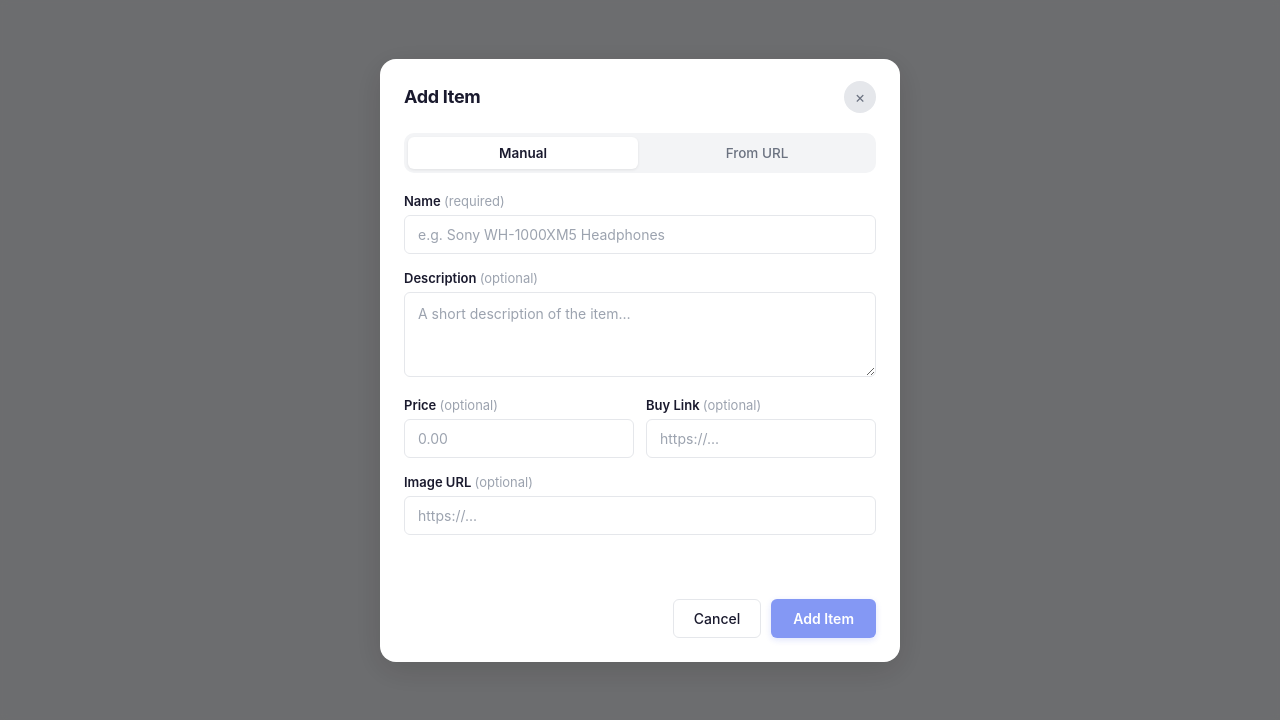
Test: AddItemModal – manual form submission › shows server error on failure
Step 1. Type "Widget" into the field labelled "Name (required)" → (640, 234), box [404,214,876,254]
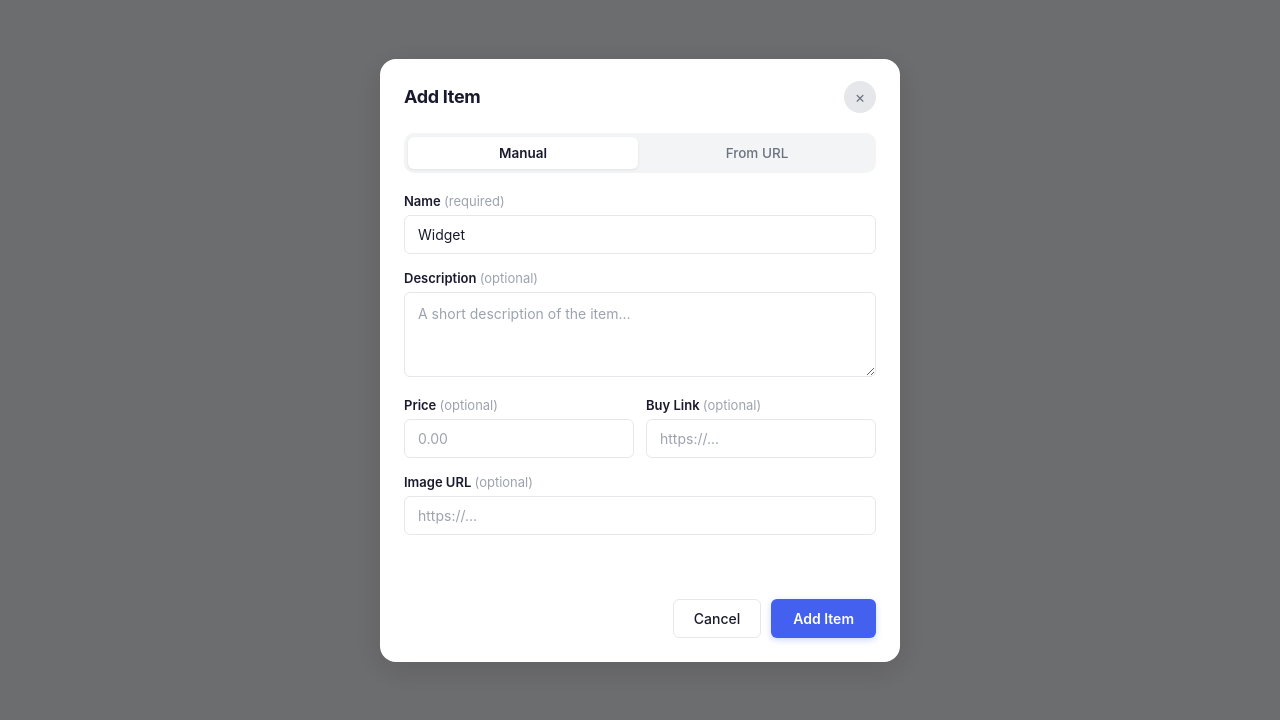
Step 2. Submit the form with id "add-item-form", box [404,192,876,534]
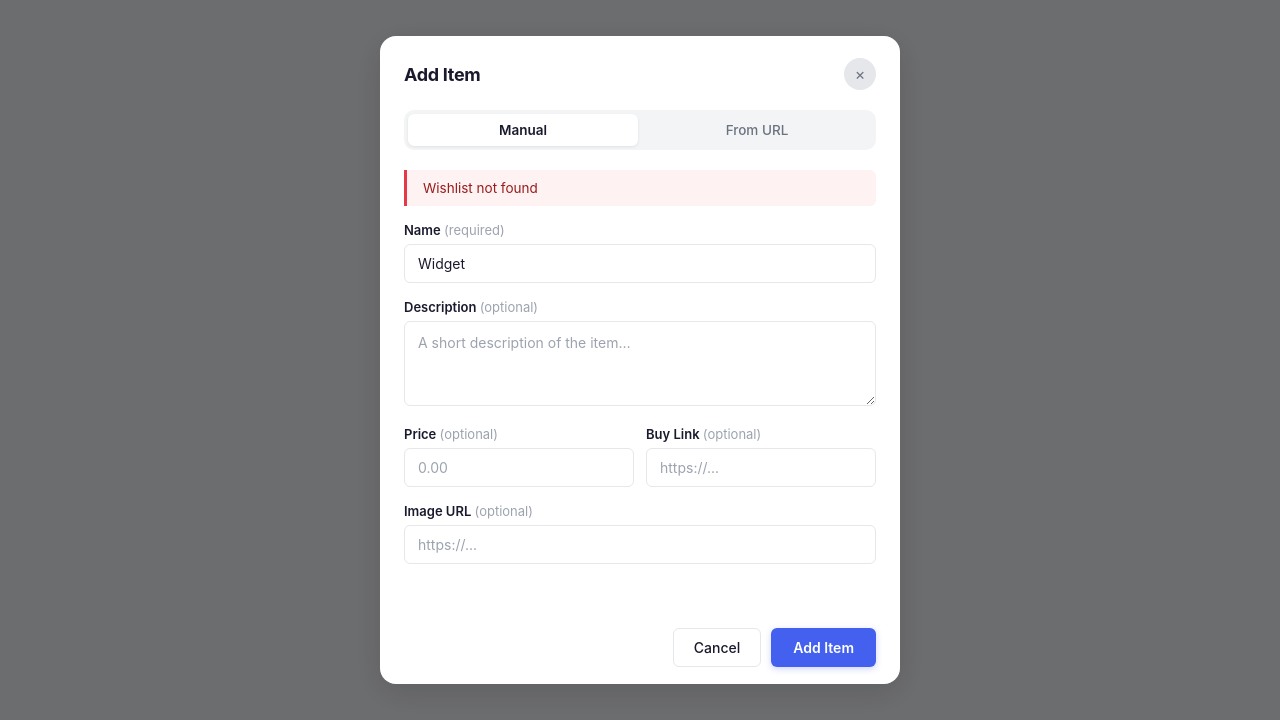
Now the text "Wishlist not found" is shown, box [404,170,876,206]
